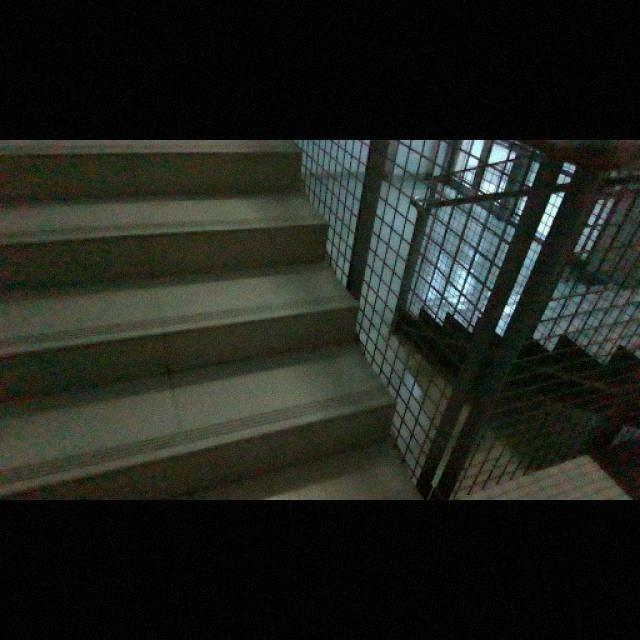stair: (0, 144, 379, 489)
